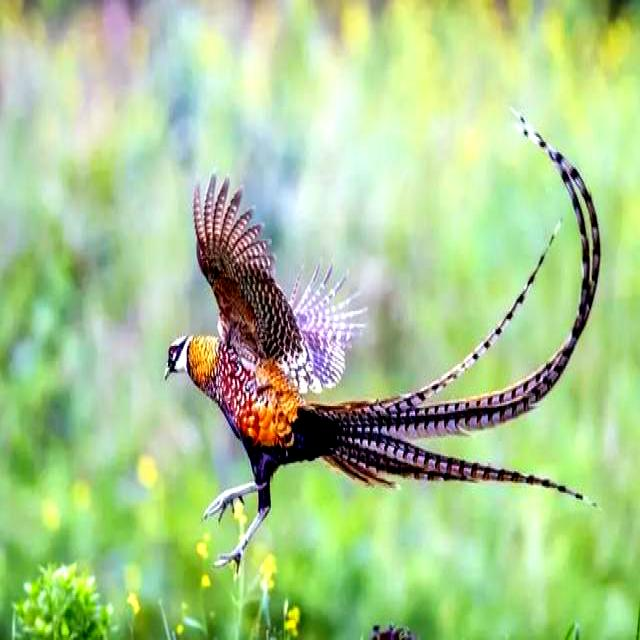Reeves-s Pheasant: (310, 107, 601, 508)
